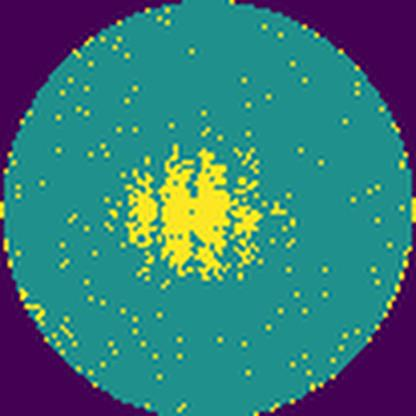Center: (125, 147, 264, 283)
